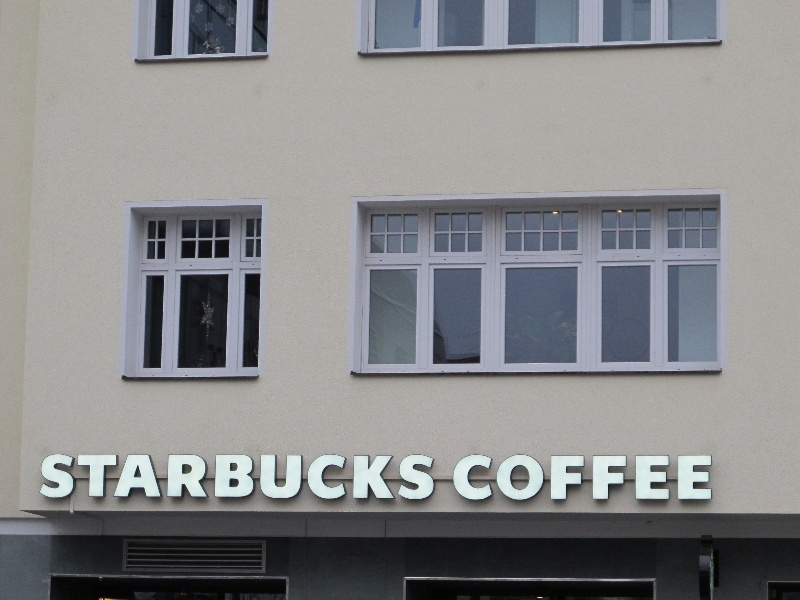text: (49, 454, 64, 504), (65, 454, 80, 504), (81, 454, 96, 504), (97, 454, 112, 504), (113, 454, 128, 504), (129, 454, 144, 504), (145, 454, 160, 504), (161, 454, 176, 504), (177, 454, 192, 504), (193, 454, 208, 504), (209, 454, 224, 504), (225, 454, 240, 504), (241, 454, 256, 504), (257, 454, 272, 504), (273, 454, 288, 504), (289, 454, 304, 504), (305, 454, 320, 504), (321, 454, 336, 504), (337, 454, 352, 504), (353, 454, 368, 504), (369, 454, 384, 504), (385, 454, 400, 504), (401, 454, 416, 504), (417, 454, 432, 504), (465, 455, 480, 503), (481, 455, 496, 503), (497, 455, 512, 503), (513, 455, 528, 503), (529, 455, 544, 503), (545, 455, 560, 503), (561, 455, 576, 503), (577, 455, 592, 503), (593, 455, 608, 503), (609, 455, 624, 503), (625, 455, 640, 503), (641, 455, 656, 503), (657, 455, 672, 503), (673, 455, 688, 503), (689, 455, 704, 503), (454, 455, 464, 503), (705, 455, 715, 503), (40, 454, 48, 504), (433, 454, 437, 504)
